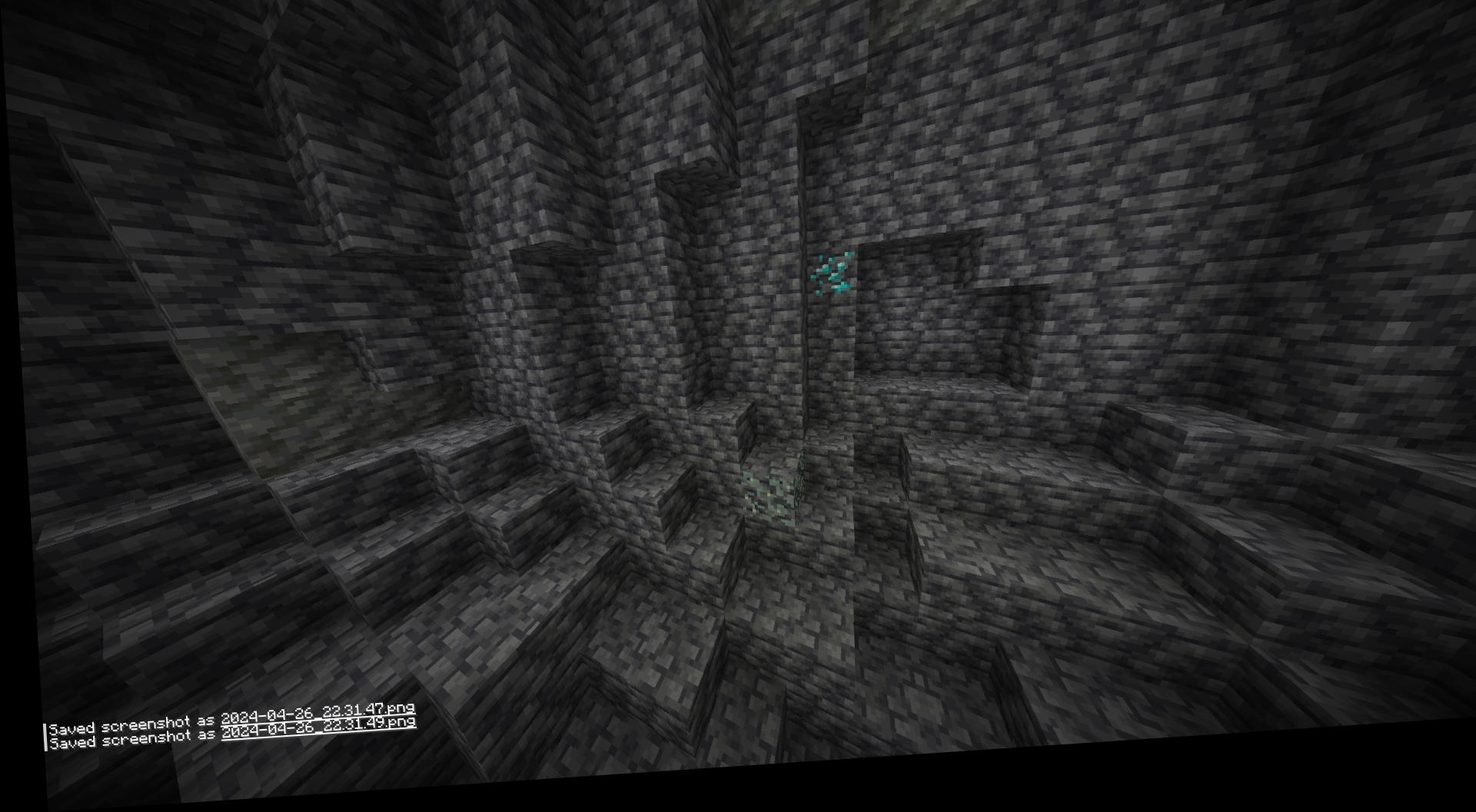diamond ore: (815, 263, 853, 308)
